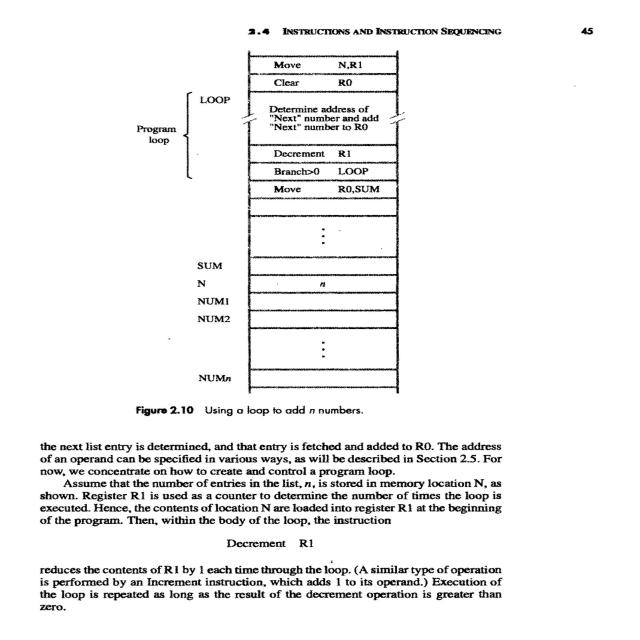diagram: (39, 54, 574, 431)
